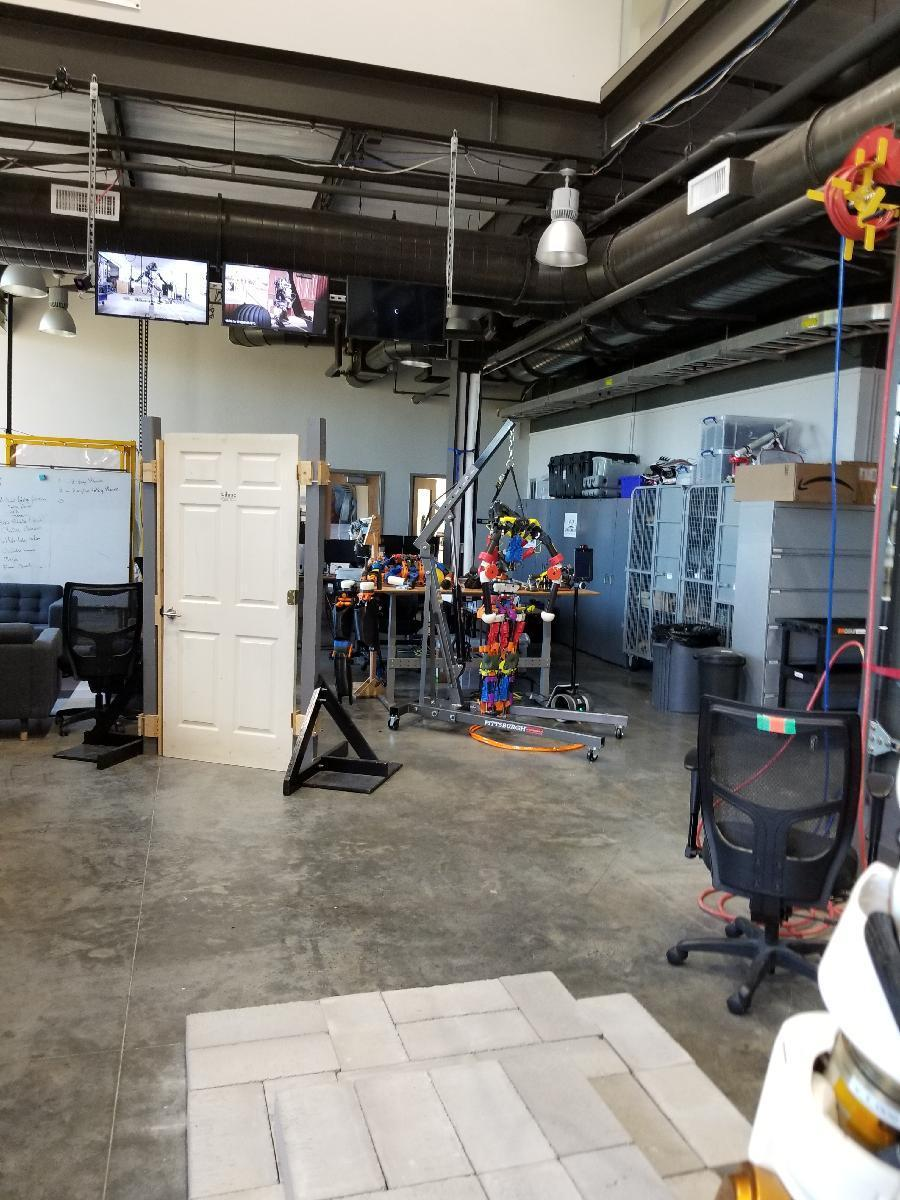door: (163, 430, 304, 772)
handle: (160, 608, 187, 623)
